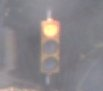Red: (38, 19, 58, 82)
